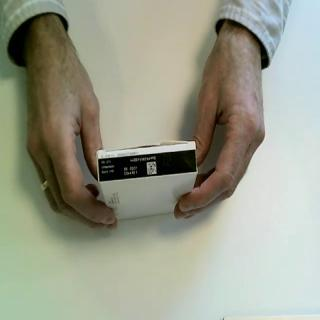valium5mg: (96, 139, 201, 224)
